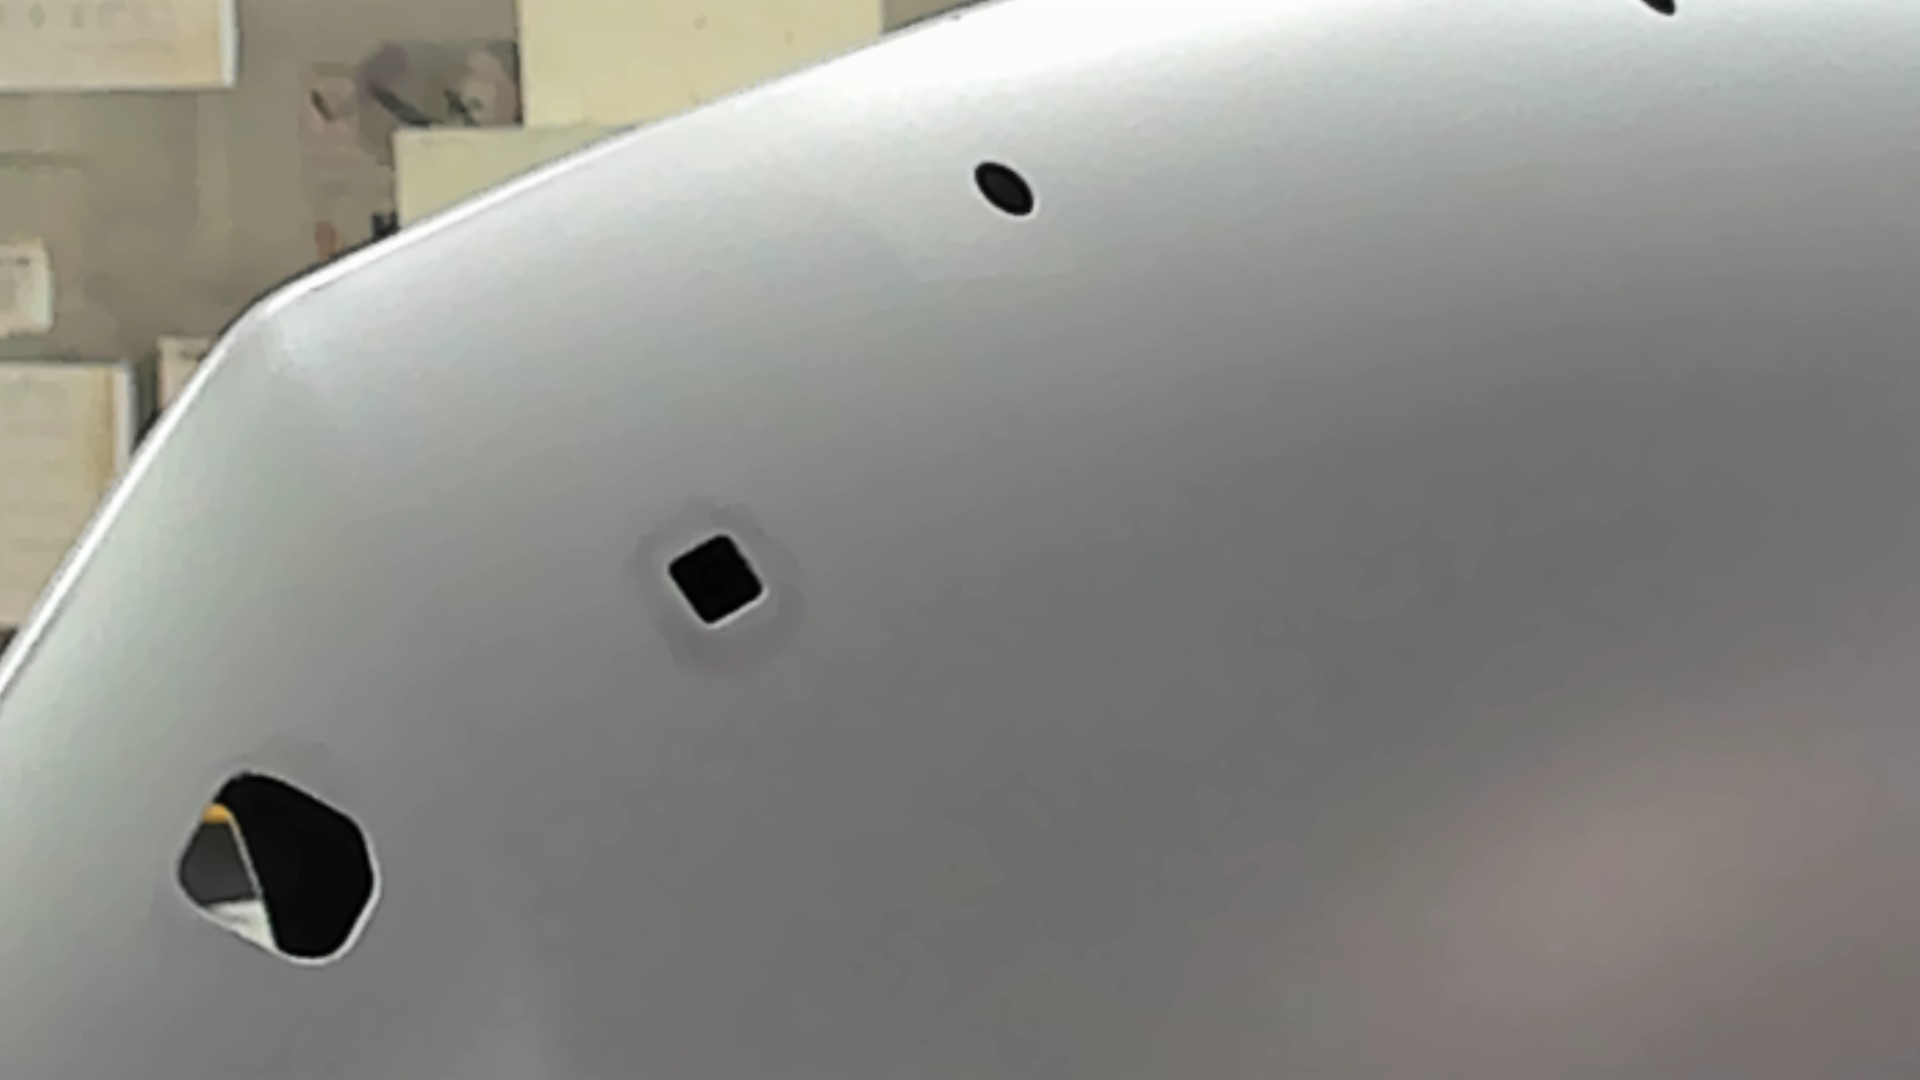chico: (971, 156, 1038, 222), (1634, 1, 1679, 20)
grande: (171, 767, 386, 975)
mediano: (663, 527, 773, 630)
